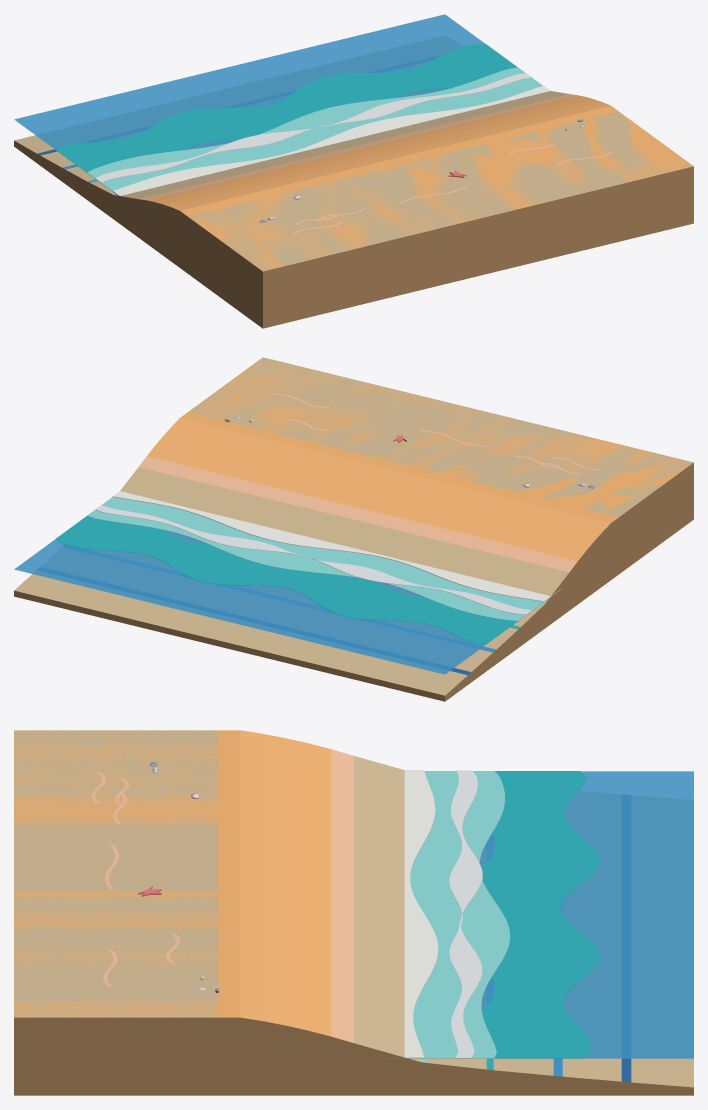
File: costa_areia_reta.glb
The picture shows the model from 3 angles, top to bottom: view 1: azimuth 30°, elevation 25°; view 2: azimuth 150°, elevation 25°; view 3: azimuth 270°, elevation 25°; orthographic projection. The views are drawn at different scales.
Parts seen in each view (by area): view 1: costa_areia_reta, colisao_praia; view 2: costa_areia_reta, colisao_praia; view 3: costa_areia_reta, colisao_praia.
Part boxes in pixels (<box>): costa_areia_reta: <box>14,14,693,327</box>; colisao_praia: <box>14,91,693,328</box>; costa_areia_reta: <box>14,358,693,701</box>; colisao_praia: <box>14,357,693,701</box>; costa_areia_reta: <box>14,730,693,1095</box>; colisao_praia: <box>14,730,693,1095</box>.
Size of the model in its own units: 15 by 1.99 by 15.
Materials: 2 (1 with a texture image).
